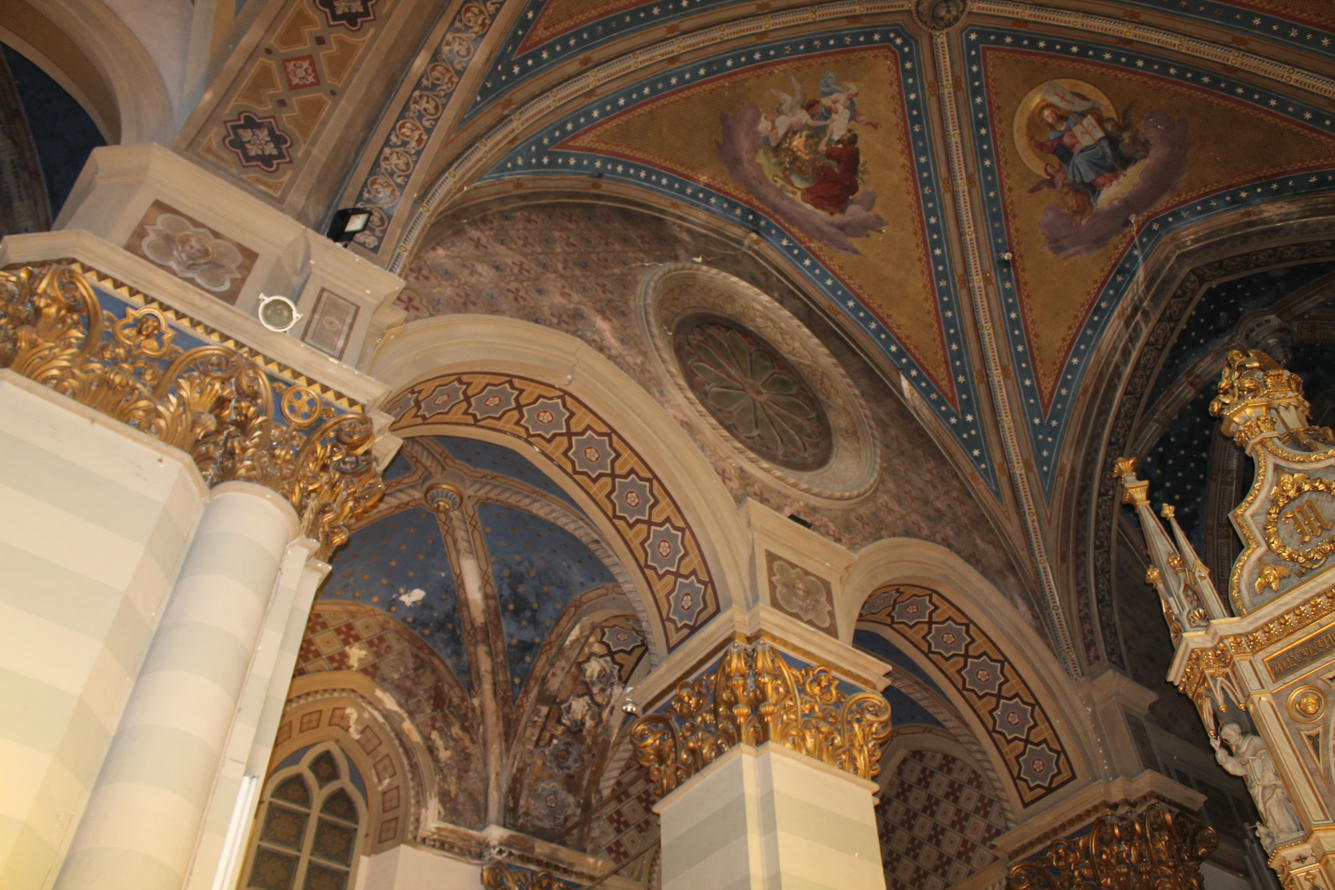Crack: (531, 168, 890, 420)
